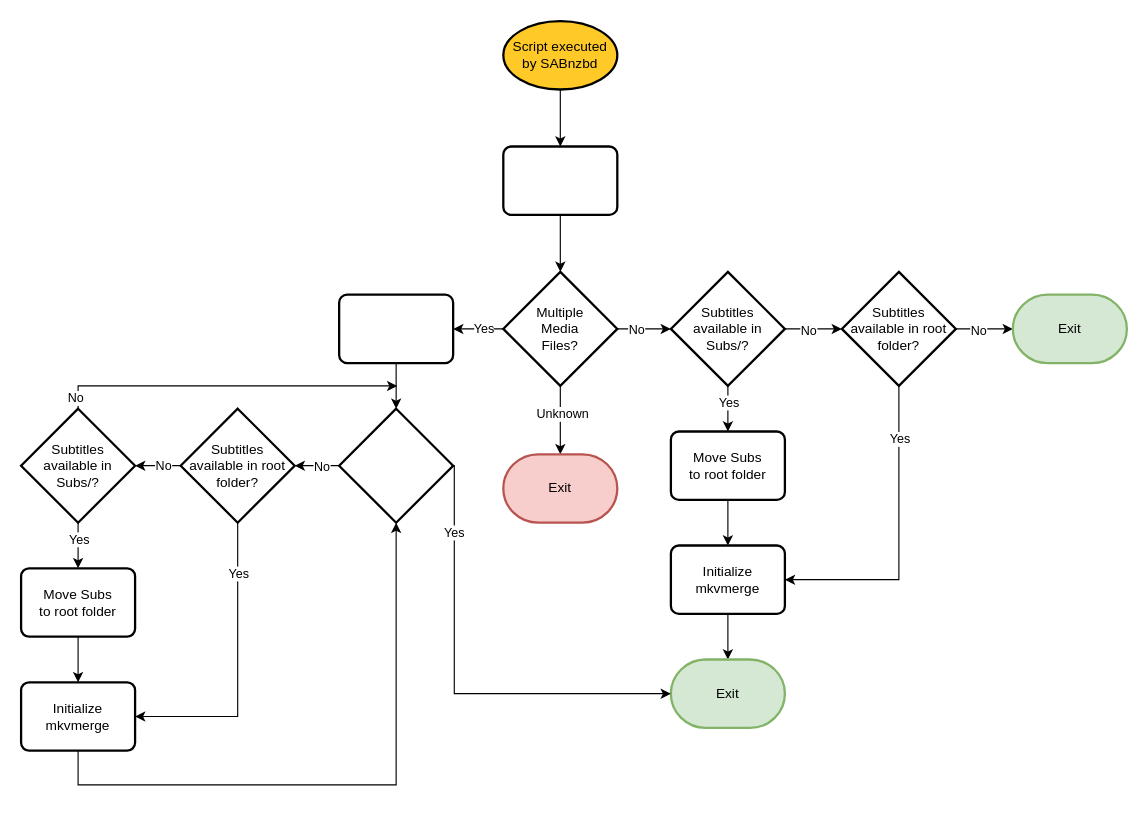
Image size: 1147x814. Some labels were removed from this diagram. The centre of each missing label's shape, as x and y in pixels:
Build Queue: point (395, 328)
Get Directories: point (560, 180)
Queue empty?: point (395, 465)
